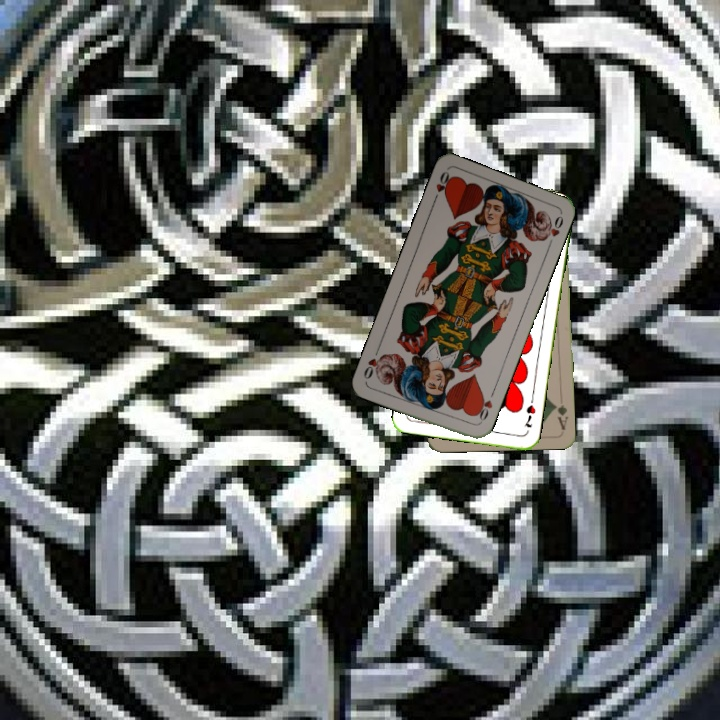GA: (550, 400, 570, 433)
H7: (521, 401, 538, 430)
HO: (471, 387, 497, 426), (429, 167, 455, 206)
